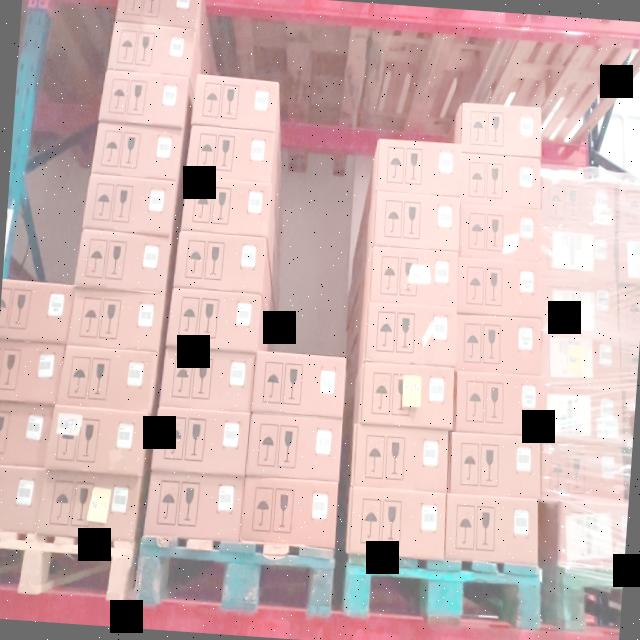box: (345, 485, 446, 559), (239, 476, 340, 548), (45, 405, 148, 475), (142, 471, 245, 540), (349, 421, 449, 492), (443, 492, 538, 566), (150, 407, 250, 476), (35, 475, 141, 540), (357, 361, 455, 431), (245, 411, 344, 480), (58, 348, 157, 414), (251, 350, 347, 418), (67, 289, 164, 354), (164, 289, 261, 353), (453, 370, 544, 438), (158, 348, 255, 411), (171, 231, 267, 294), (449, 432, 540, 498), (75, 230, 170, 293), (364, 302, 457, 366), (454, 314, 543, 378), (540, 440, 626, 506), (368, 246, 458, 308), (84, 177, 176, 237), (372, 190, 460, 252), (181, 177, 273, 236), (91, 122, 183, 181), (185, 124, 276, 181), (190, 74, 279, 132), (457, 258, 544, 317), (97, 70, 189, 125), (459, 203, 543, 263), (542, 384, 624, 445), (541, 326, 623, 387), (107, 22, 196, 76), (377, 139, 461, 196), (459, 153, 541, 209), (540, 275, 619, 333), (459, 102, 542, 157), (541, 227, 618, 282), (541, 177, 616, 232)
